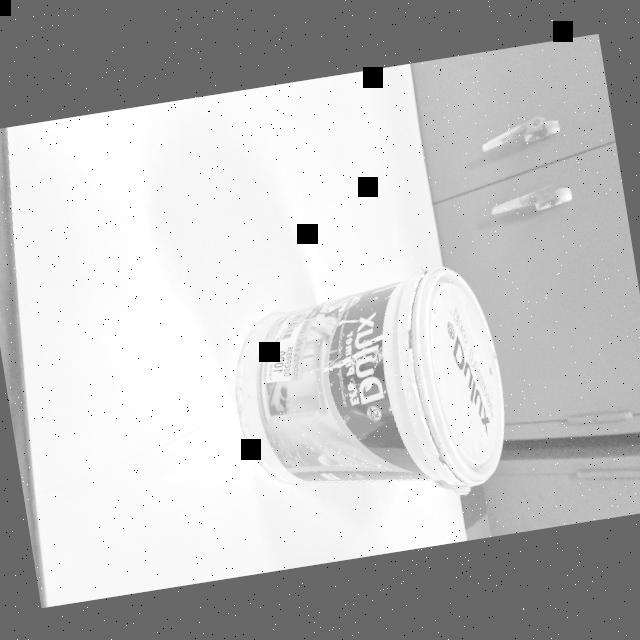paint_bucket: (211, 261, 528, 529)
